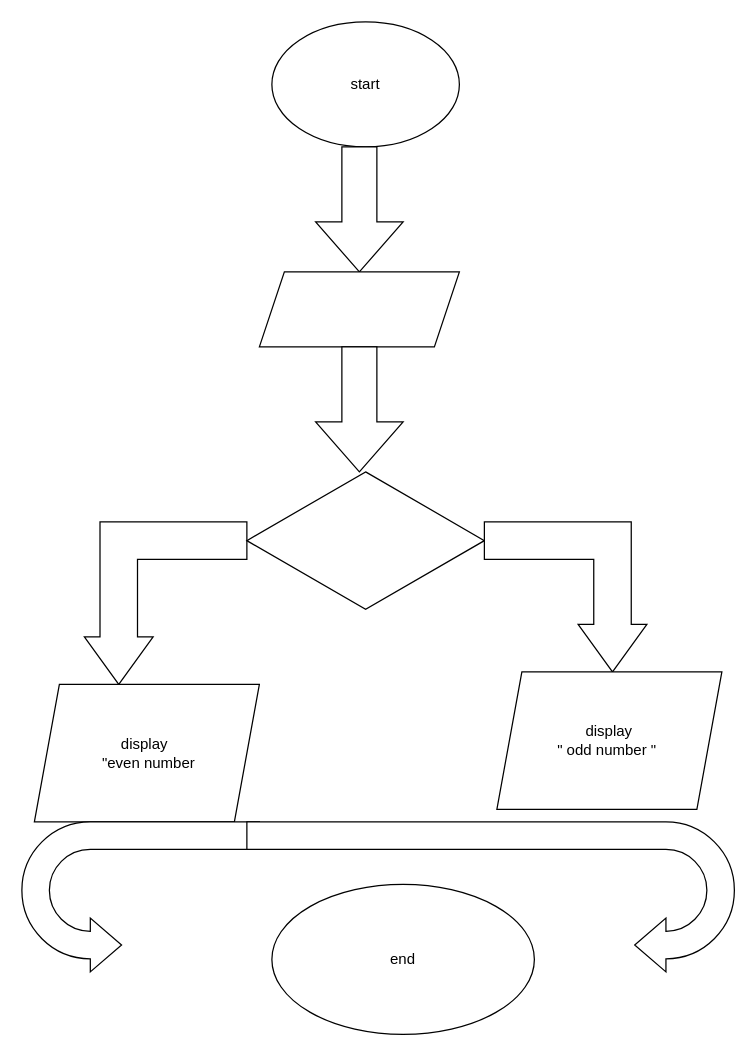
The diagram is 756 pixels wide and 1056 high, and some of its shapes have lost their labels. Here are the shapes that lost their labels. From the top down, the centre of each, then its label:
At [358,309]: "input number".
At [365,540]: "if number %2 == 0".
